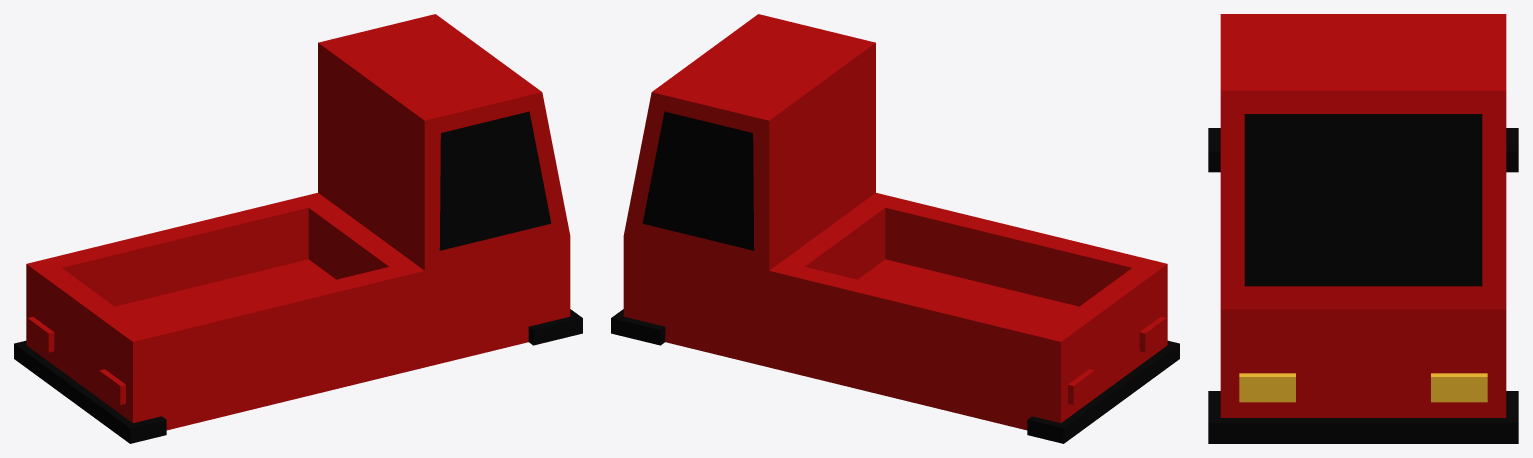
File: CityTruckB_02.fbx
The picture shows the model from 3 angles, left to right: view 1: azimuth 30°, elevation 25°; view 2: azimuth 150°, elevation 25°; view 3: azimuth 270°, elevation 25°; orthographic projection. The views are drawn at different scales.
Visible parts, largest first — view 1: CityTruckB_02; view 2: CityTruckB_02; view 3: CityTruckB_02.
Boxes of the visible parts, <box> form: CityTruckB_02: <box>14,14,582,443</box>; CityTruckB_02: <box>611,14,1179,443</box>; CityTruckB_02: <box>1208,14,1518,443</box>.
Size of the model in its own units: 0.5913 by 0.308 by 0.2626.
